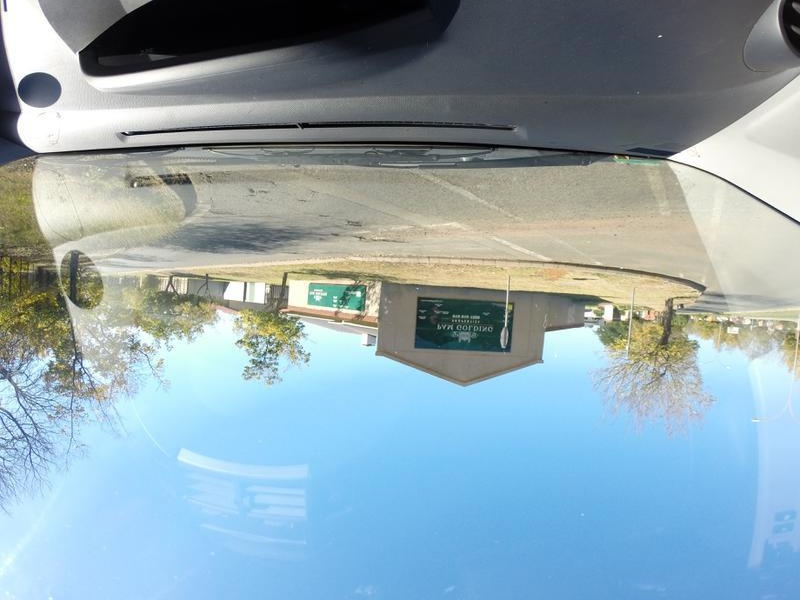pothole: (331, 218, 468, 250)
